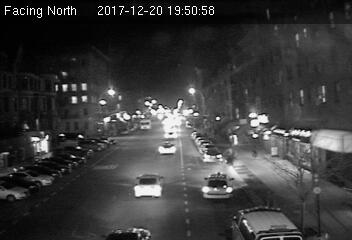car: (200, 172, 235, 200), (132, 173, 166, 200), (203, 150, 222, 164), (158, 142, 176, 154)
police: (224, 206, 304, 240)
